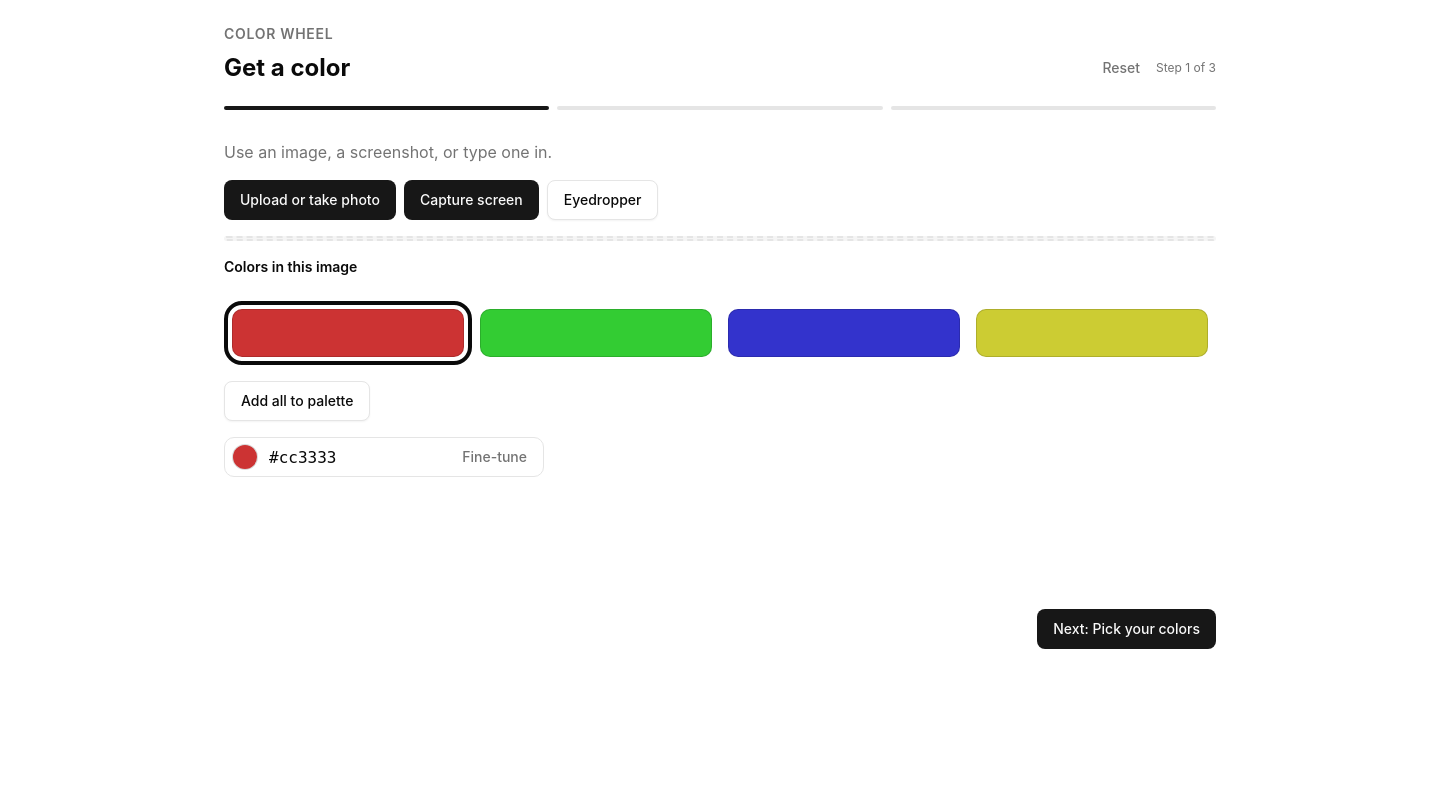
Scenario: choosing a suggested pairing on step 2 › shows the pairing as the palette on step 2: counter, checkmarks and the stack
Check: the text "Colors in this image" is shown, box [224,258,357,275]
Click the button "Add all to palette" at (297, 401), box [224,381,370,421]
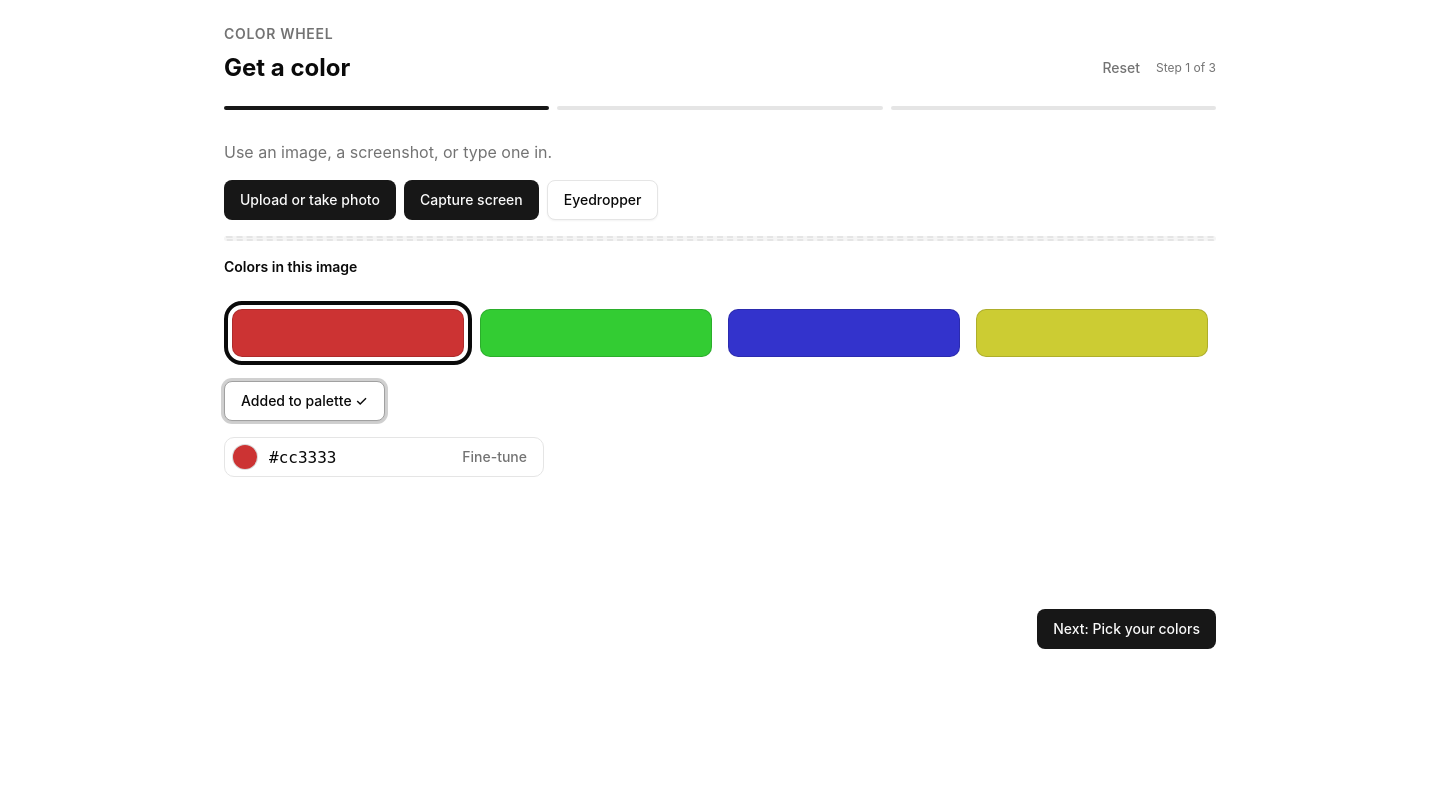
Click the button "Next: Pick your colors" at (1127, 629), box [1037,609,1216,649]
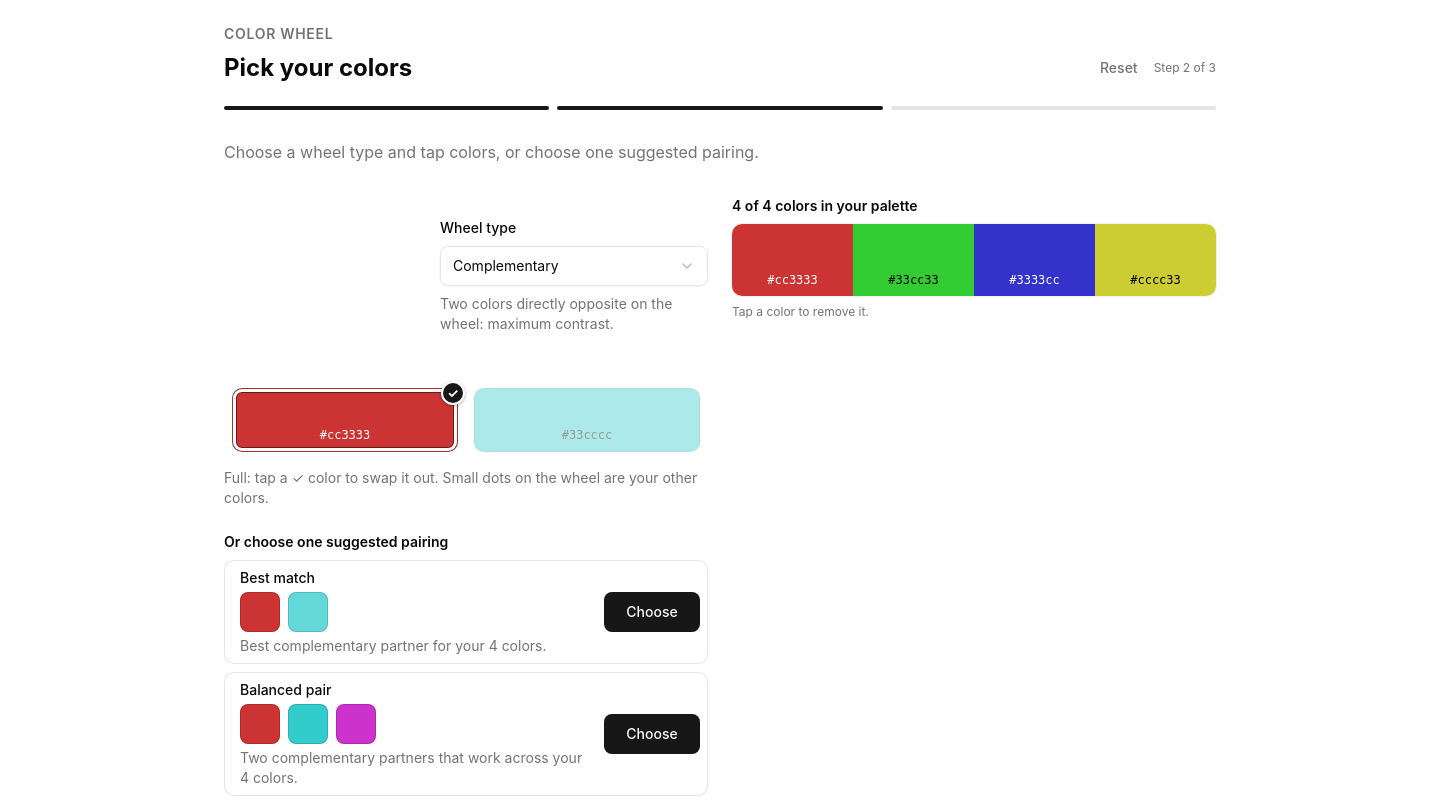
Click the 2nd button "Choose" at (652, 734), box [604,714,700,754]
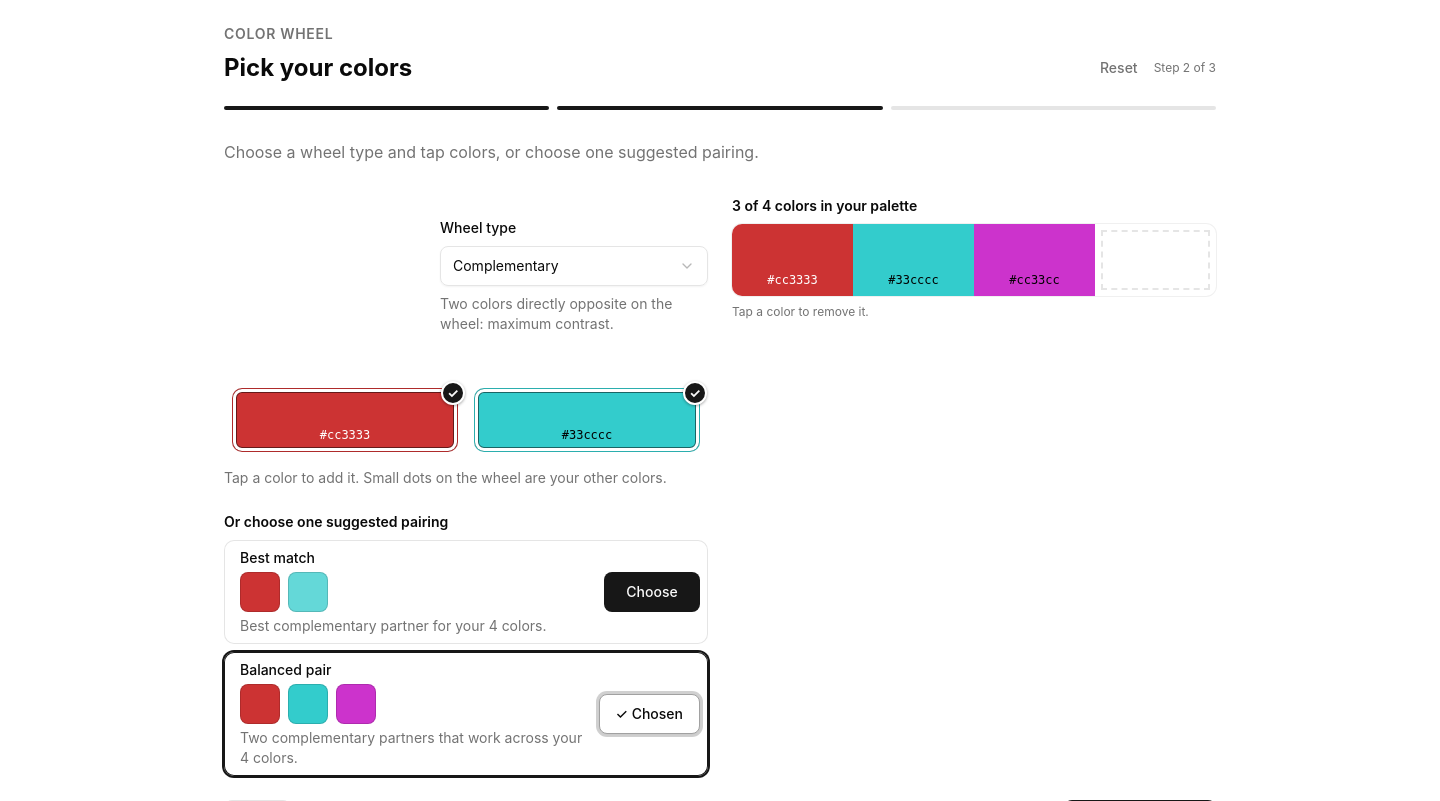
Check: the heading "3 of 4 colors in your palette" is shown, box [732,197,917,214]
